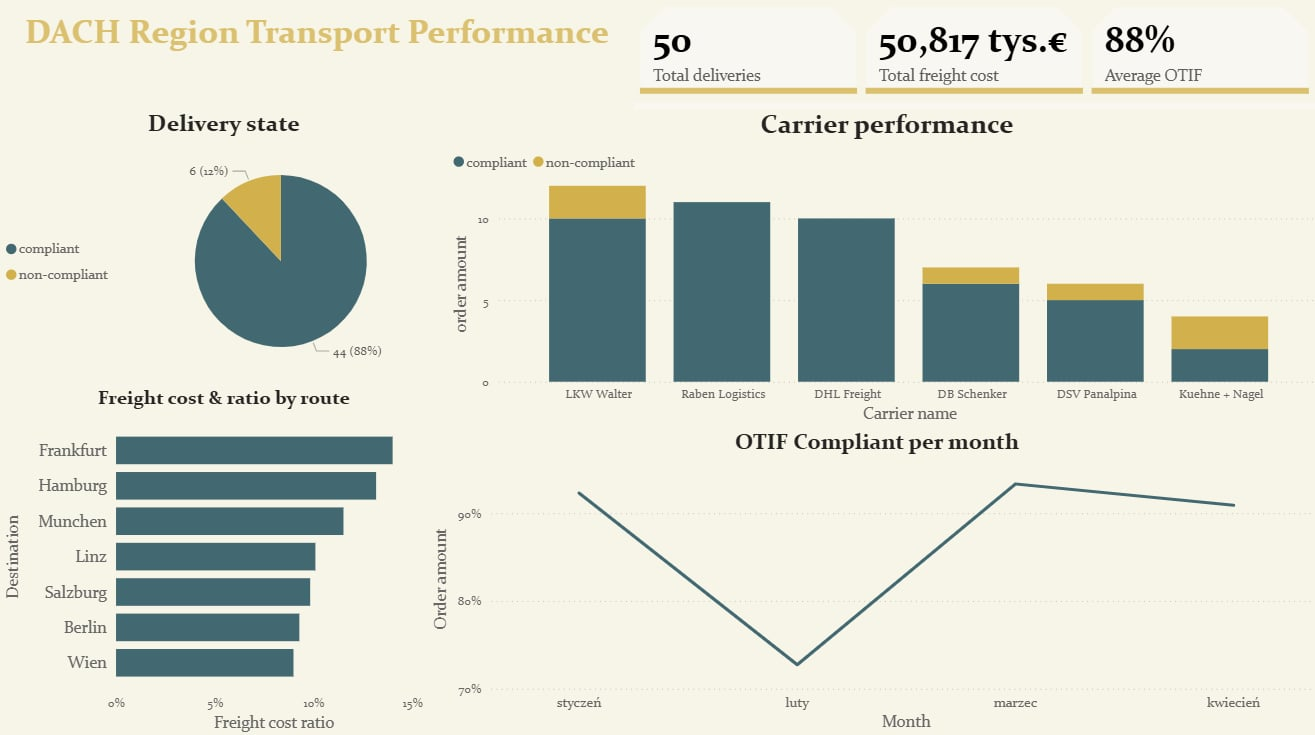

The dashboard page shown, as its layout file describes it:
{"tool":"powerbi","page":{"name":"Strona 1","canvas":[1280,720],"ordinal":0},"visuals":[{"type":"pieChart","title":"Delivery state","fields":{"Category":["sap_s4hana_tm_billing_dump (2).DELIVERY_STATE"],"Y":["CountNonNull(sap_s4hana_tm_billing_dump (2).VBELN)"]},"box":[0,114,432.3,266.9],"z":0},{"type":"columnChart","title":"Carrier performance","fields":{"Y":["Count(sap_s4hana_tm_billing_dump (2).VBELN)"],"Series":["sap_s4hana_tm_billing_dump (2).DELIVERY_STATE"],"Category":["sap_s4hana_tm_billing_dump (2).CARRIER_NAME"]},"box":[431.9,113.4,848.1,308.8],"z":1000},{"type":"barChart","title":"Freight cost & ratio by route","fields":{"Y":["Avg(sap_s4hana_tm_billing_dump (2).FREIGHT_COST_RATIO)"],"Category":["sap_s4hana_tm_billing_dump (2).CITY_TO"]},"box":[0,380.8,432.3,339.2],"z":2000},{"type":"cardVisual","fields":{"Data":["Count(sap_s4hana_tm_billing_dump (2).VBELN)","Sum(sap_s4hana_tm_billing_dump (2).FREIGHT_COST)","Avg(sap_s4hana_tm_billing_dump (2).OTIF_COMPLIANT)"]},"box":[603.3,0,677,114],"z":3000},{"type":"lineChart","title":"OTIF Compliant per month","fields":{"Category":["sap_s4hana_tm_billing_dump (2).FKDAT.Odmiana.Hierarchia dat.Miesiąc"],"Y":["Avg(sap_s4hana_tm_billing_dump (2).OTIF_COMPLIANT)"]},"box":[412.9,422.6,867.4,297.5],"z":4000},{"type":"textbox","title":"DACH Region Transport Performance","box":[0,0,611.7,113.4],"z":5000}]}

Visuals, with their boxes in screenshot pixels (x1, y1, x2, y2), scaled from the page's 1280x720 canvas onto the 1315x735 screenshot:
"Delivery state" pieChart: locate(0, 116, 444, 389)
"Carrier performance" columnChart: locate(444, 116, 1314, 431)
"Freight cost & ratio by route" barChart: locate(0, 389, 444, 734)
cardVisual - Count(sap_s4hana_tm_billing_dump (2).VBELN) x Sum(sap_s4hana_tm_billing_dump (2).FREIGHT_COST): locate(620, 0, 1314, 116)
"OTIF Compliant per month" lineChart: locate(424, 431, 1314, 734)
"DACH Region Transport Performance" textbox: locate(0, 0, 628, 116)
